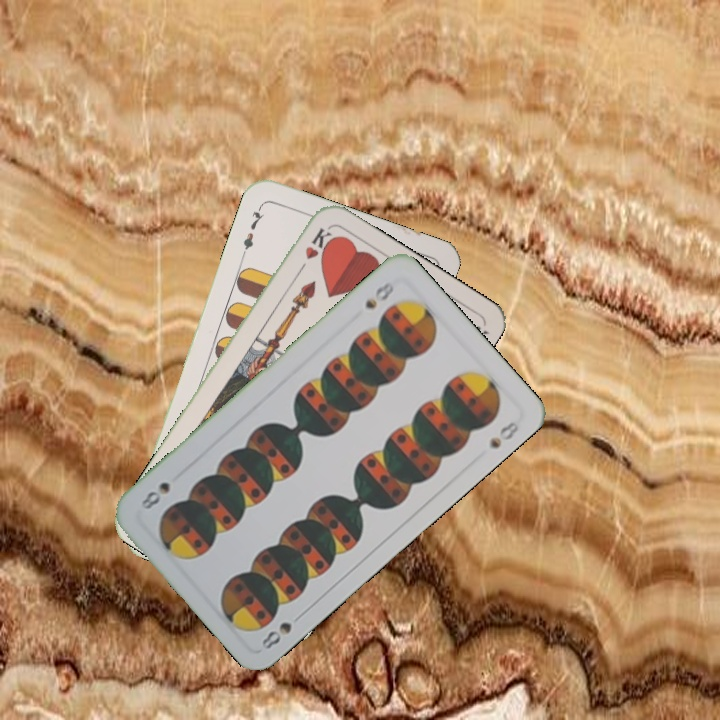E7: (237, 201, 267, 259)
HK: (293, 224, 335, 278)
S8: (257, 608, 307, 652), (360, 277, 397, 312)
